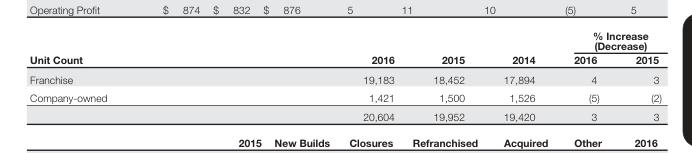table: (29, 28, 660, 122)
table column: (29, 28, 234, 122), (234, 28, 413, 122), (413, 28, 483, 122), (483, 28, 553, 122), (553, 28, 616, 122), (616, 28, 660, 122)
table column header: (29, 28, 660, 69)
table row: (29, 28, 660, 52), (29, 87, 660, 106), (29, 69, 660, 87), (29, 52, 660, 69), (29, 106, 660, 122)
table spanning cell: (29, 28, 234, 69), (234, 28, 413, 69), (413, 28, 483, 69), (483, 28, 553, 69), (553, 28, 660, 52)
